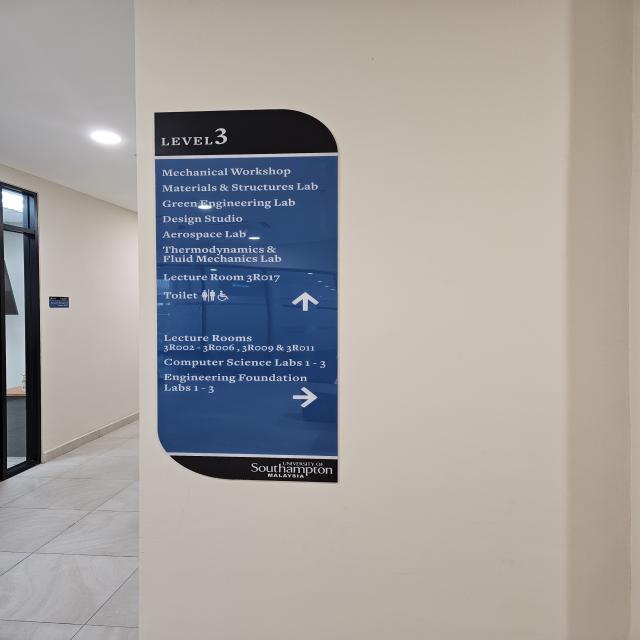footpath: (6, 432, 140, 638)
